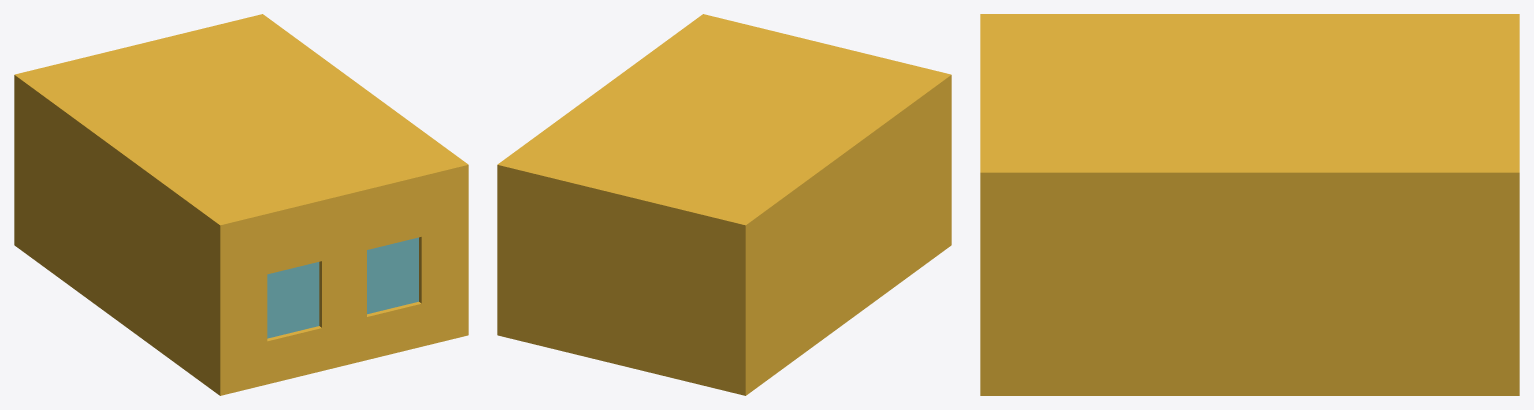
File: CookingRoom.fbx
The picture shows the model from 3 angles, left to right: view 1: azimuth 30°, elevation 25°; view 2: azimuth 150°, elevation 25°; view 3: azimuth 270°, elevation 25°; orthographic projection. The views are drawn at different scales.
Visible parts, largest first — view 1: Room, Window.001, Window; view 2: Room; view 3: Room.
Boxes of the visible parts, x1=… form: Room: x1=14, y1=14, x2=468, y2=395; Window.001: x1=267, y1=262, x2=319, y2=338; Window: x1=367, y1=237, x2=418, y2=314; Room: x1=497, y1=14, x2=951, y2=395; Room: x1=980, y1=14, x2=1519, y2=395.
Bounding box in the file's own units: 1540 × 2210 × 1010.
